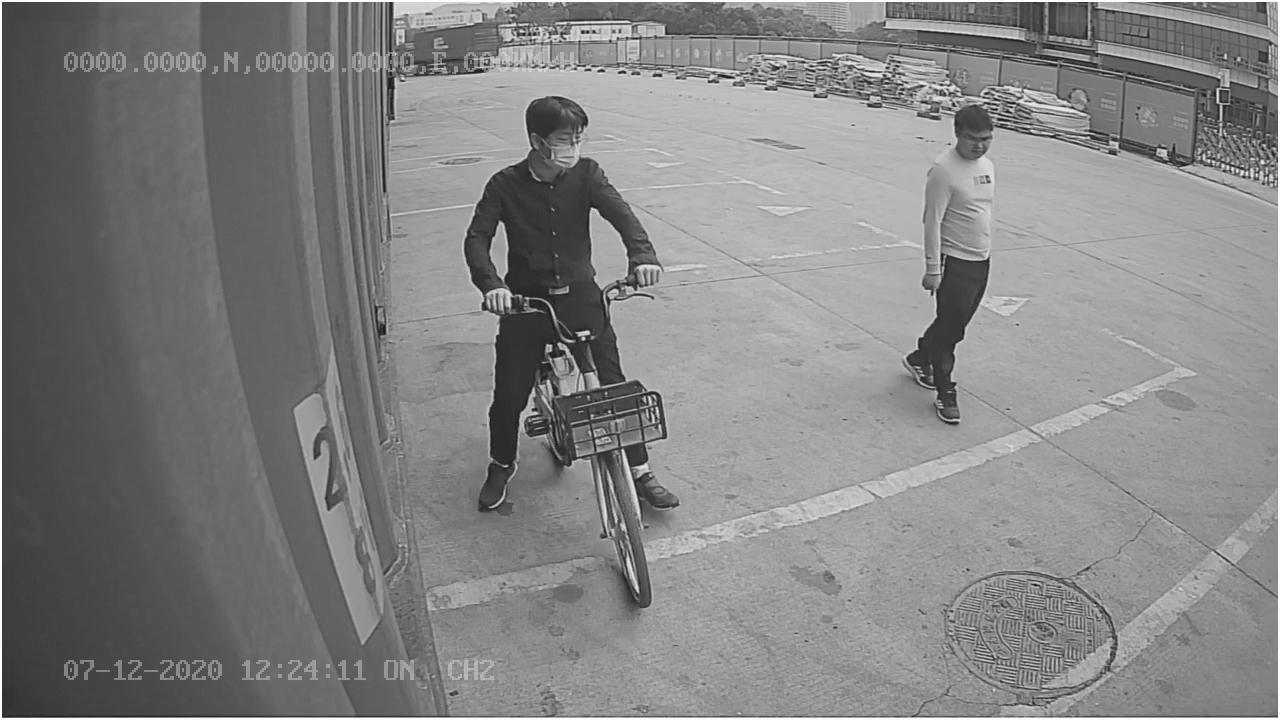person: (888, 99, 1001, 432)
